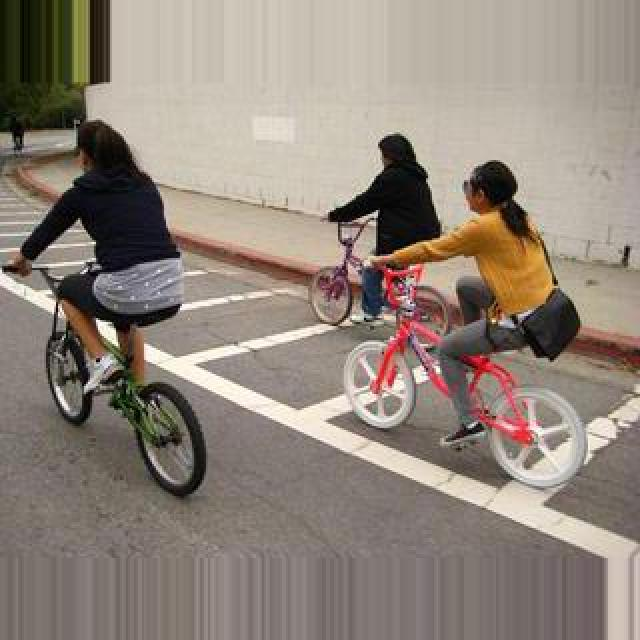MC-Bike: (366, 160, 580, 444), (2, 118, 182, 408), (324, 130, 442, 326)
Person: (344, 282, 594, 496), (8, 260, 208, 496), (308, 222, 450, 336)
